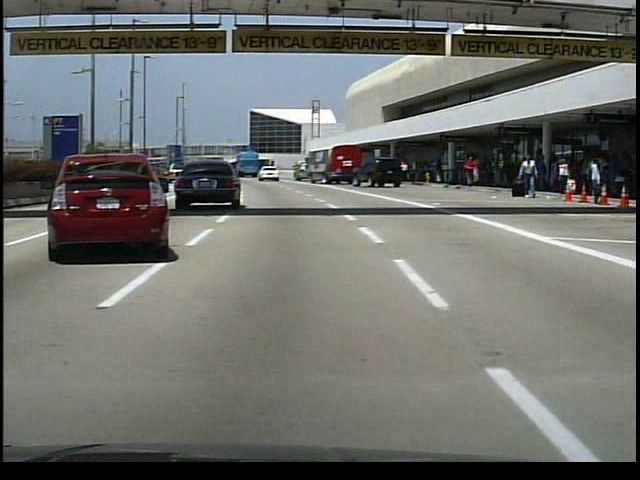person: (514, 153, 536, 199), (462, 156, 480, 187), (399, 162, 411, 186)
